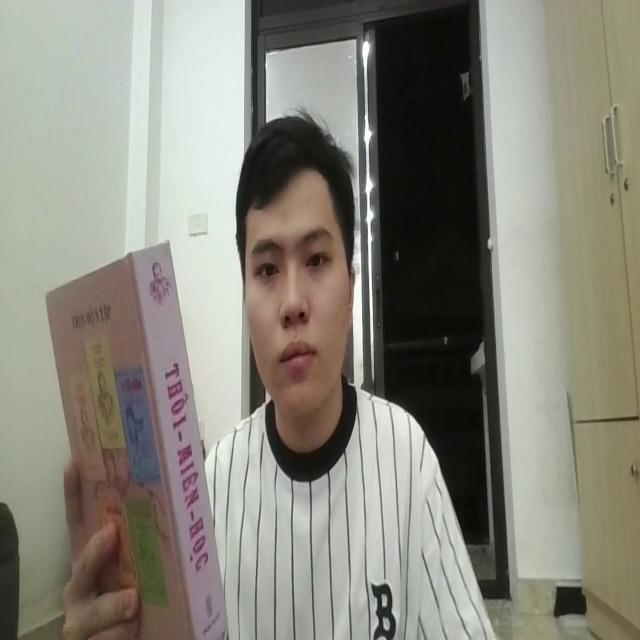book: (44, 230, 240, 640)
student: (184, 111, 501, 640)
